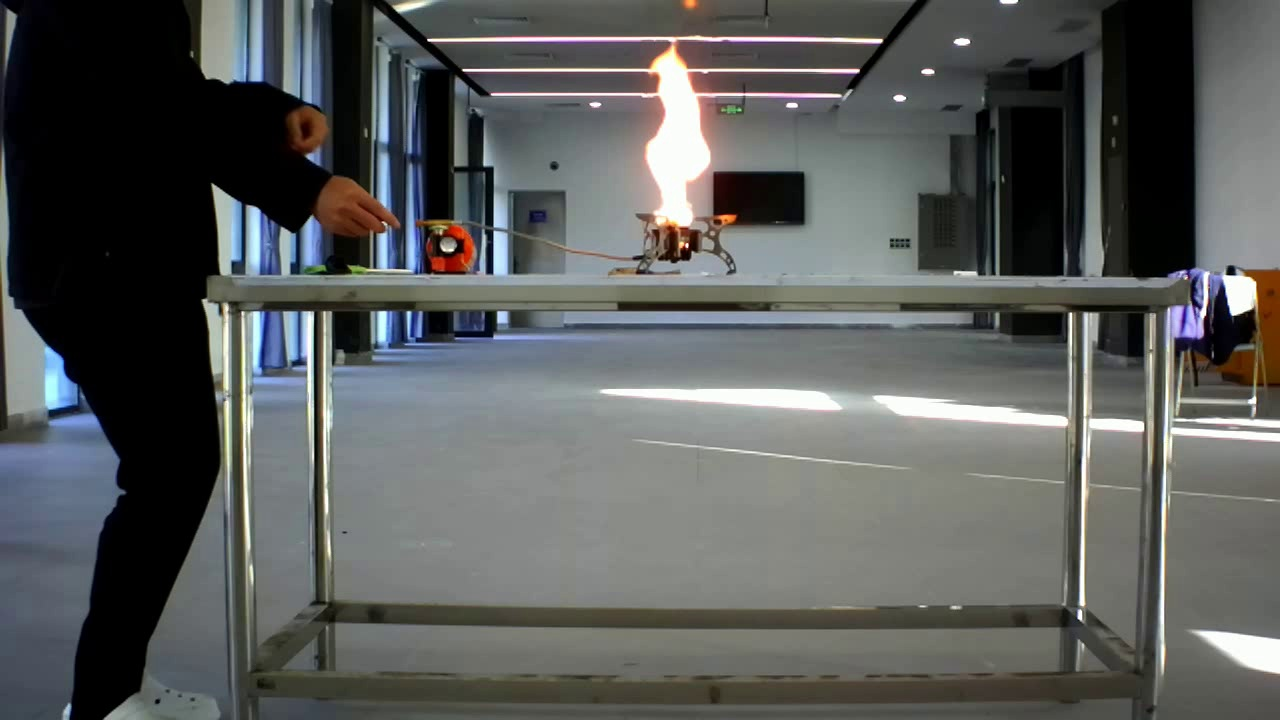Fire: (618, 34, 743, 264)
